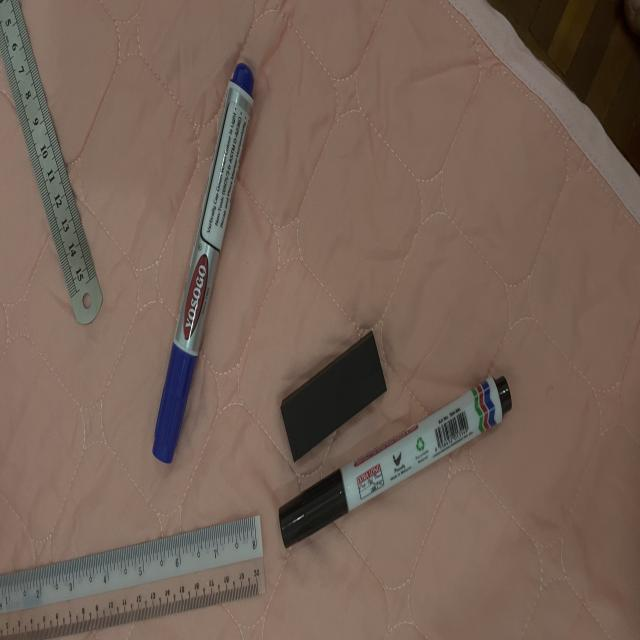eraser: (281, 331, 386, 461)
marker: (153, 63, 253, 463), (279, 376, 511, 547)
ruler: (0, 0, 102, 324), (0, 516, 266, 640)
